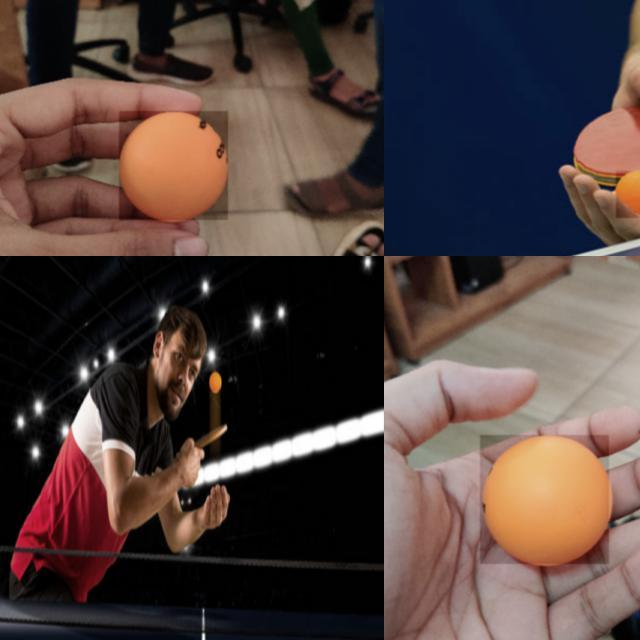ping-pong-ball: (480, 435, 610, 565), (119, 111, 229, 221), (615, 171, 639, 220), (208, 372, 222, 392)
